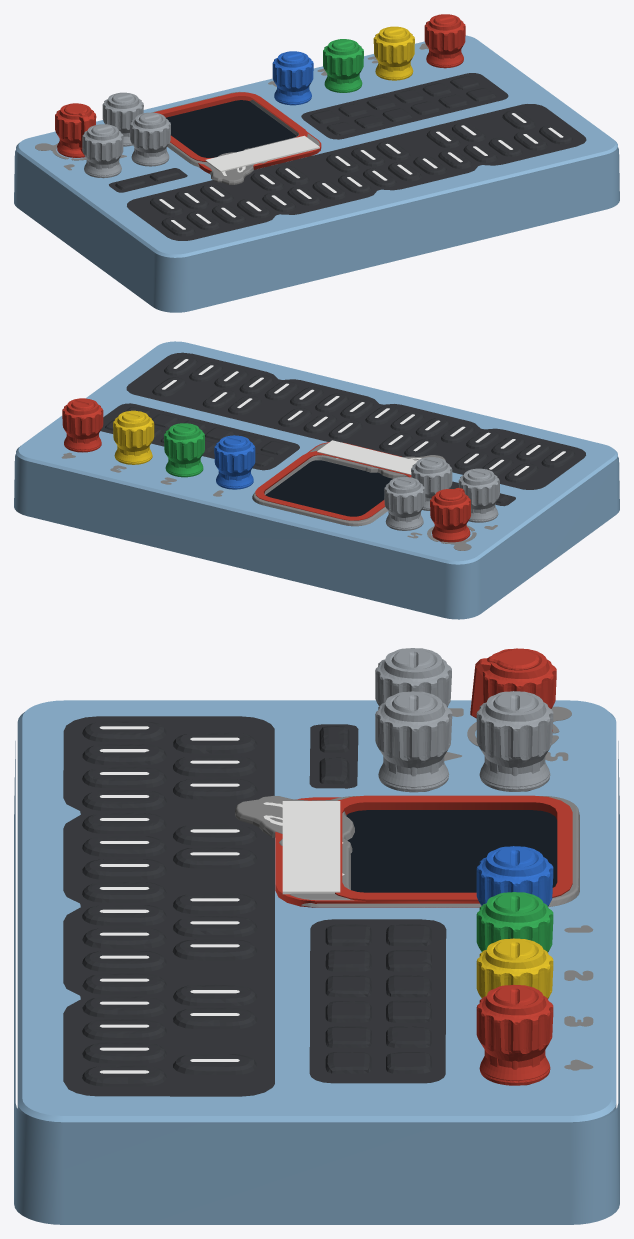
The model's file is FM1_Kz_site_v0.7.glb.
The picture shows the model from 3 angles, top to bottom: view 1: azimuth 30°, elevation 25°; view 2: azimuth 150°, elevation 25°; view 3: azimuth 270°, elevation 25°; orthographic projection. The views are drawn at different scales.
Parts seen in each view (by area): view 1: faceplate_side, faceplate_body, fm1_keys, keys_buttons, fm1_screen, bezel_logo_sloop, knob_p4_classic_long_body, knob_p1_classic_long_body, knob_nav2_classic_long_body, knob_p3_classic_long_body, knob_nav3_classic_long_body, knob_p2_classic_long_body (+7 smaller); view 2: faceplate_side, faceplate_body, fm1_keys, keys_buttons, fm1_screen, bezel_jiant, knob_vol_classic_long_body, knob_nav1_classic_long_body, knob_p3_classic_long_body, knob_p1_classic_long_body, knob_p4_classic_long_body, knob_p2_classic_long_body (+6 smaller); view 3: faceplate_body, faceplate_side, keys_buttons, fm1_keys, fm1_screen, bezel_simple, knob_nav3_classic_long_body, knob_p4_classic_long_body, knob_nav1_classic_long_body, bezel_logo_sloop, keyboard_lights, bezel_jiant (+8 smaller).
Part boxes in pixels (box(x1,y1,x2,y2)): faceplate_side: box(14, 147, 619, 312); faceplate_body: box(16, 35, 617, 258); fm1_keys: box(109, 73, 586, 240); keys_buttons: box(115, 76, 572, 236); fm1_screen: box(166, 100, 296, 157); bezel_logo_sloop: box(205, 135, 319, 172); knob_p4_classic_long_body: box(424, 14, 465, 68); knob_p1_classic_long_body: box(272, 51, 313, 105); knob_nav2_classic_long_body: box(82, 124, 123, 175); knob_p3_classic_long_body: box(373, 26, 414, 80); knob_nav3_classic_long_body: box(130, 112, 170, 166); knob_p2_classic_long_body: box(323, 39, 363, 92); faceplate_side: box(14, 454, 619, 619); faceplate_body: box(16, 341, 617, 565); fm1_keys: box(100, 352, 585, 506); keys_buttons: box(105, 356, 575, 503); fm1_screen: box(265, 460, 392, 516); bezel_jiant: box(252, 443, 445, 526); knob_vol_classic_long_body: box(430, 487, 470, 542); knob_nav1_classic_long_body: box(384, 476, 425, 530); knob_p3_classic_long_body: box(113, 410, 154, 464); knob_p1_classic_long_body: box(214, 435, 255, 489); knob_p4_classic_long_body: box(62, 398, 103, 452); knob_p2_classic_long_body: box(164, 423, 204, 477); faceplate_body: box(17, 700, 616, 1123); faceplate_side: box(14, 741, 619, 1224); keys_buttons: box(82, 721, 431, 1086); fm1_keys: box(63, 716, 446, 1096); fm1_screen: box(346, 810, 557, 892); bezel_simple: box(335, 795, 572, 907); knob_nav3_classic_long_body: box(375, 691, 452, 792); knob_p4_classic_long_body: box(476, 984, 553, 1085); knob_nav1_classic_long_body: box(476, 691, 553, 791); bezel_logo_sloop: box(282, 801, 340, 894); keyboard_lights: box(99, 726, 239, 1073); bezel_jiant: box(235, 795, 579, 907).
Size of the model in its own units: 0.165 by 0.0338 by 0.1.
